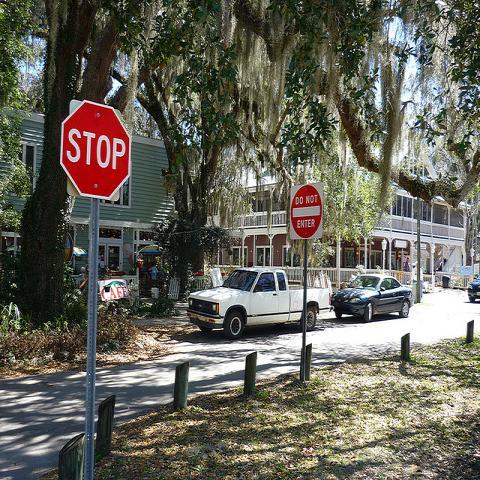car: (332, 273, 415, 322), (468, 273, 479, 303)
truck: (187, 265, 335, 339)
